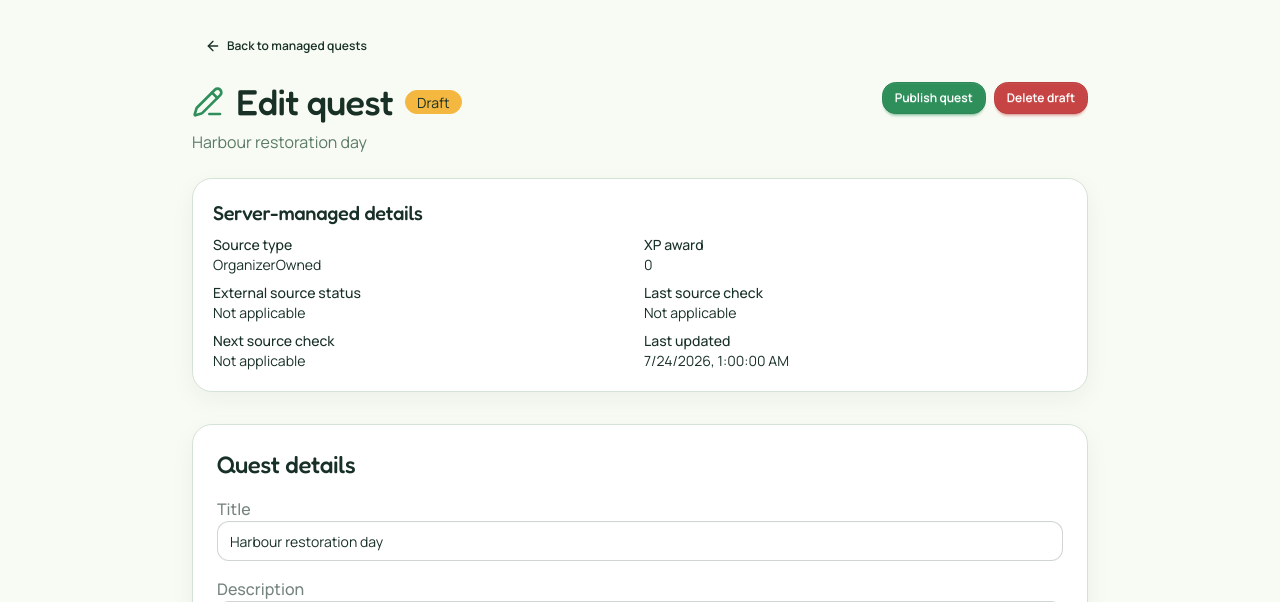
Scenario: Organizer Quest edit page › submits a full PUT with the current version, cover, and preserved Region id
Clear the field labelled "Title" at {"x": 640, "y": 541}, box [217, 521, 1063, 561]
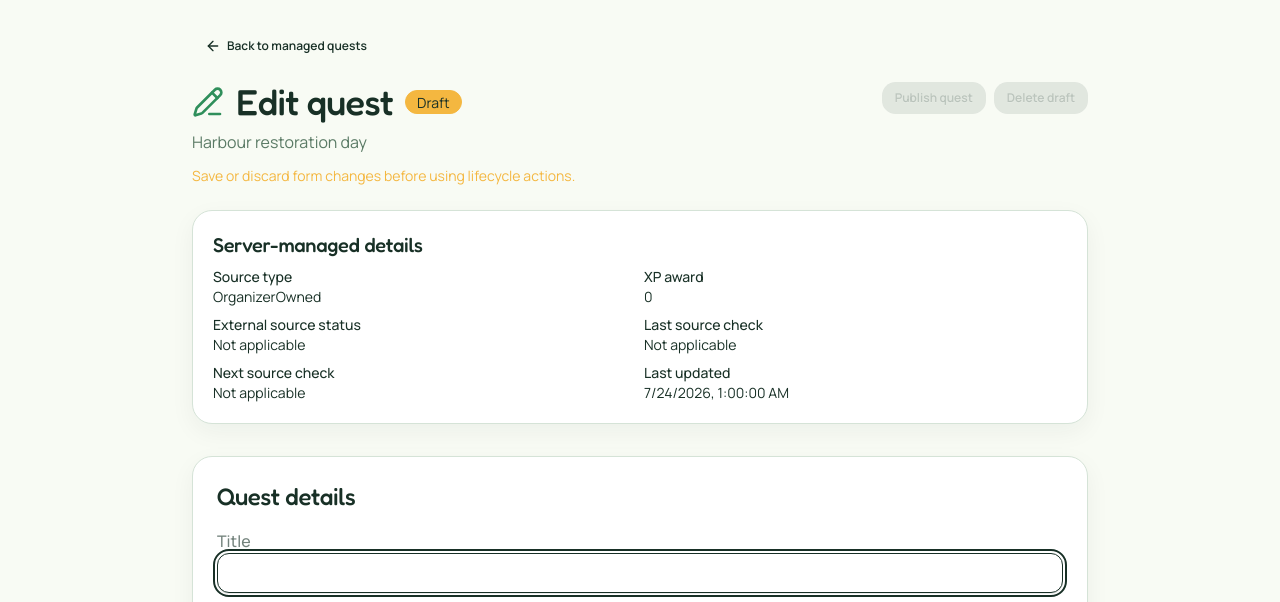
Type "Updated harbour quest" into the field labelled "Title" at {"x": 640, "y": 573}, box [217, 553, 1063, 593]
(page scrolled)
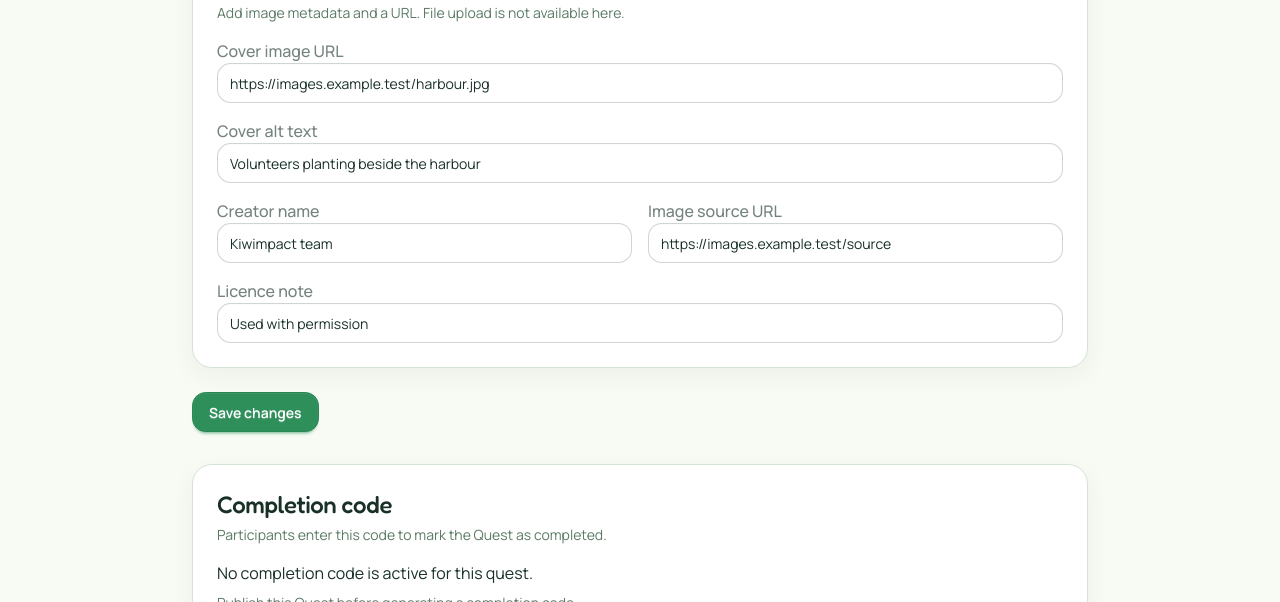
Click the button "Save changes" at {"x": 255, "y": 412}, box [192, 392, 319, 432]
(page scrolled)
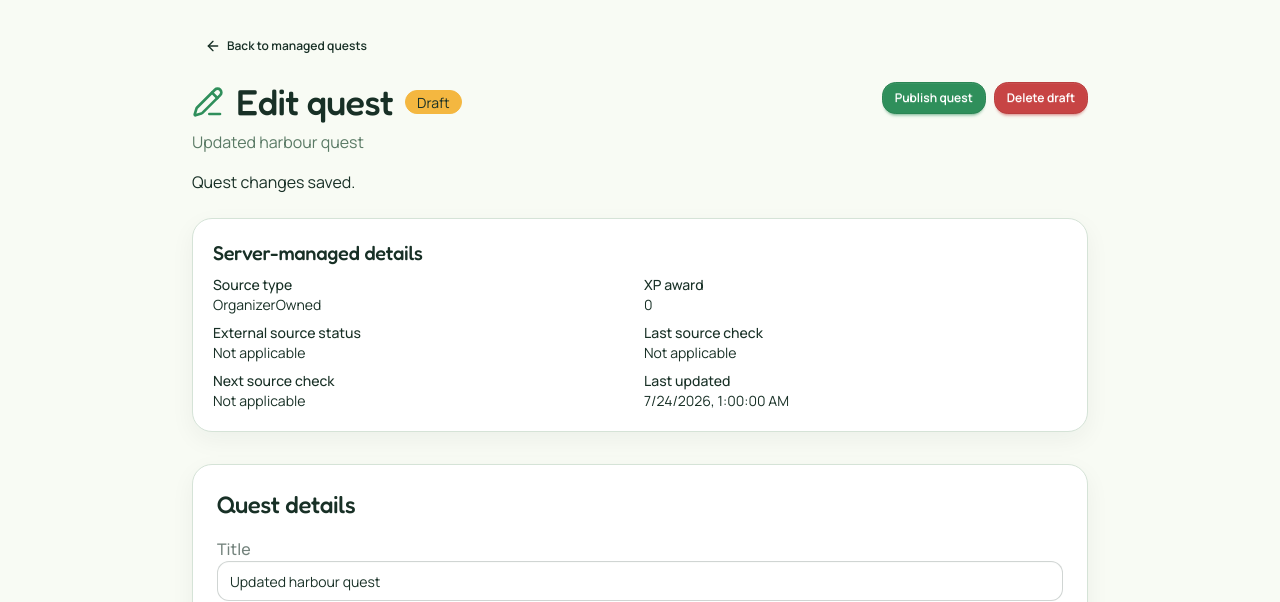
Expected: the text "Quest changes saved." is shown, [192, 171, 355, 193]
